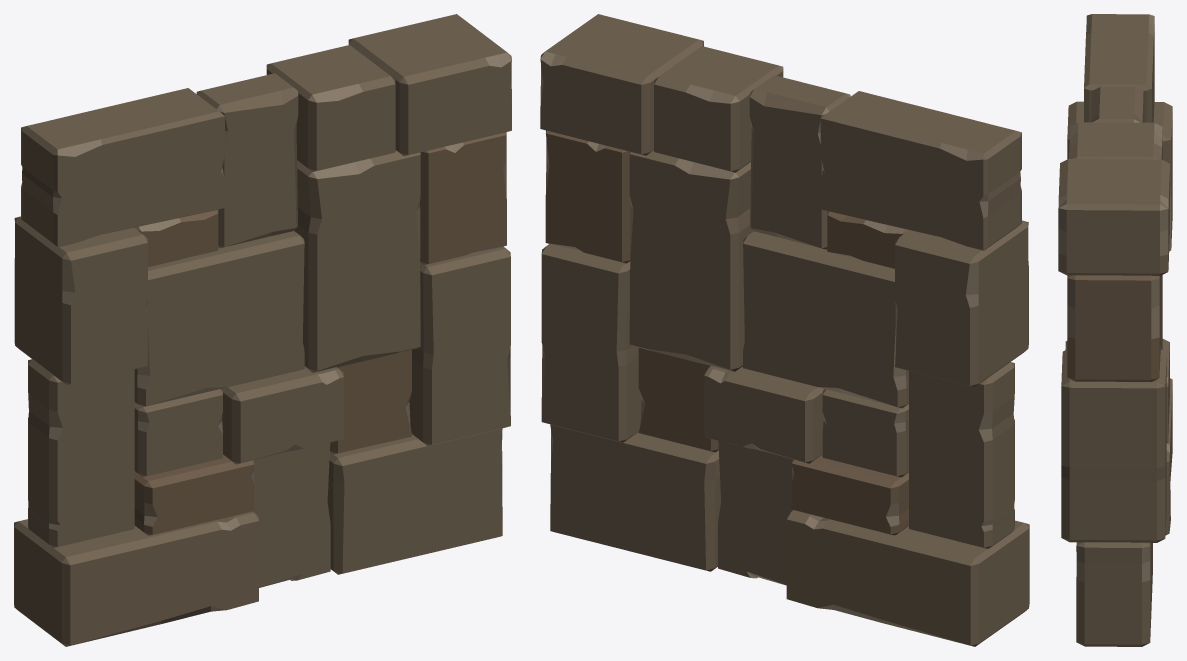
File: corridor_entrada_plaza_right_0_lev3.glb
3 renders of one model, left to right at view 1: azimuth 30°, elevation 25°; view 2: azimuth 150°, elevation 25°; view 3: azimuth 270°, elevation 25°, orthographic. The views are drawn at different scales.
Visible parts, largest first — view 1: corridor_entrada_plaza_right_0_lev3; view 2: corridor_entrada_plaza_right_0_lev3; view 3: corridor_entrada_plaza_right_0_lev3.
Part boxes in pixels (box(x1,y1,x2,y2)): corridor_entrada_plaza_right_0_lev3: box(14, 14, 511, 646); corridor_entrada_plaza_right_0_lev3: box(540, 14, 1029, 646); corridor_entrada_plaza_right_0_lev3: box(1058, 14, 1172, 646).
Bounding box in the file's own units: 5.64 × 5.94 × 1.39.
